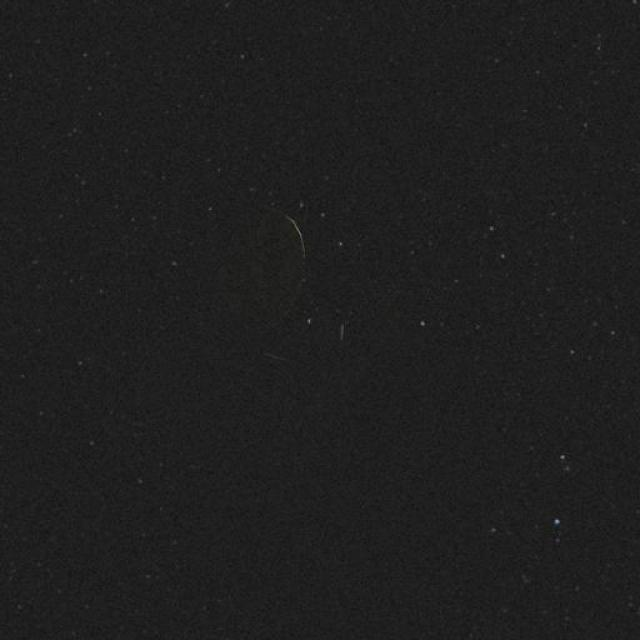debris: (160, 192, 438, 395)
